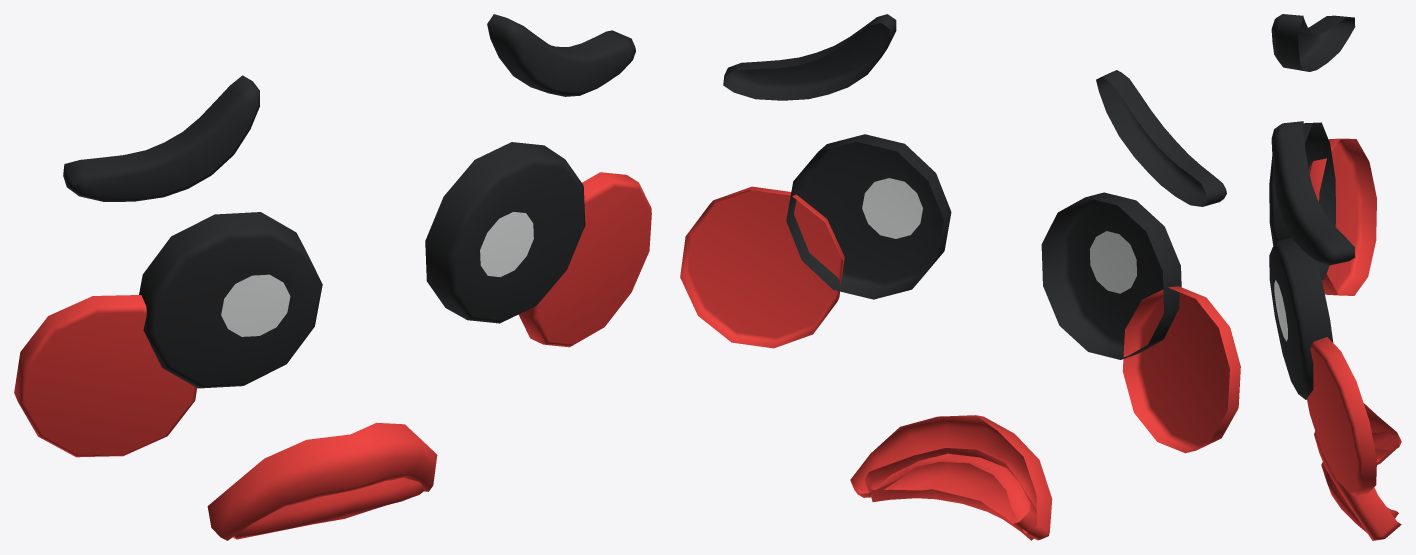
File: Female_Emotion_Sad_01.glb
3 views of the same model, side by side, from view 1: azimuth 30°, elevation 25°; view 2: azimuth 150°, elevation 25°; view 3: azimuth 270°, elevation 25° (orthographic). The views are drawn at different scales.
Visible parts, largest first — view 1: Female_Emotion_Sad_01; view 2: Female_Emotion_Sad_01; view 3: Female_Emotion_Sad_01.
Part boxes in pixels (x1=…): Female_Emotion_Sad_01: x1=14, y1=14, x2=651, y2=540; Female_Emotion_Sad_01: x1=680, y1=14, x2=1240, y2=540; Female_Emotion_Sad_01: x1=1269, y1=14, x2=1401, y2=540.
Bounding box in the file's own units: 0.304 × 0.2319 × 0.0644.
Materials: 1 (1 with a texture image).
